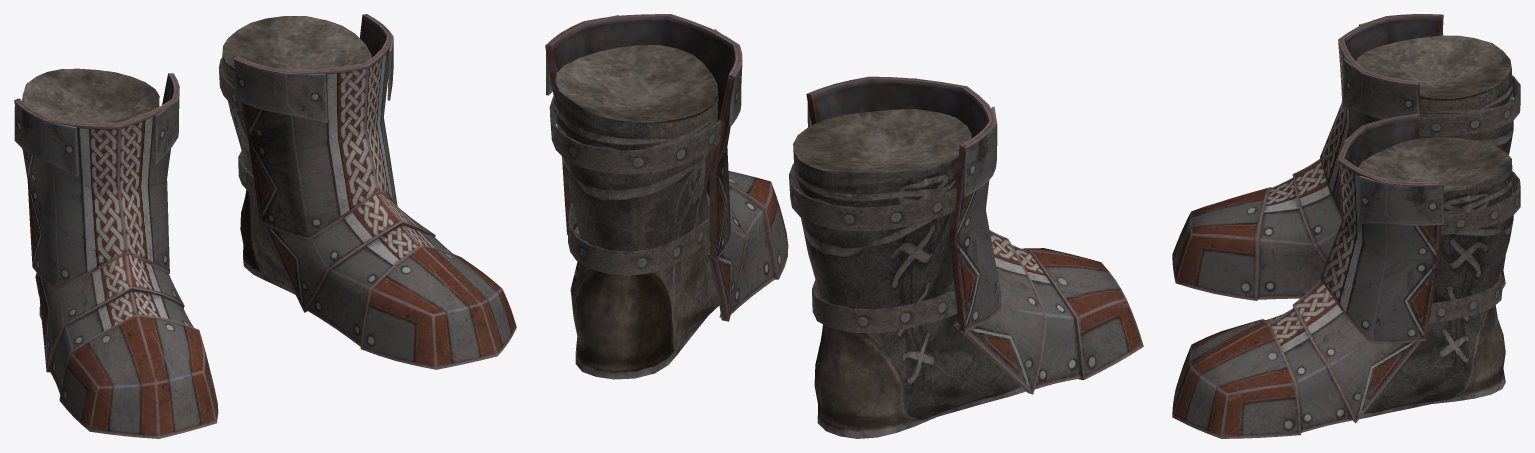
File: sk_dwarf_iron_boots_lord_c1.fbx
3 renders of one model, left to right at view 1: azimuth 30°, elevation 25°; view 2: azimuth 150°, elevation 25°; view 3: azimuth 270°, elevation 25°, orthographic. The views are drawn at different scales.
Parts seen in each view (by area): view 1: sk_dwarf_iron_boots_lord_c1.0, sk_dwarf_iron_boots_lord_c1.1; view 2: sk_dwarf_iron_boots_lord_c1.0, sk_dwarf_iron_boots_lord_c1.1; view 3: sk_dwarf_iron_boots_lord_c1.0, sk_dwarf_iron_boots_lord_c1.1.
Boxes of the visible parts, x1,y1,x2,y2 form: sk_dwarf_iron_boots_lord_c1.0: (14,14,516,438); sk_dwarf_iron_boots_lord_c1.1: (22,58,256,197); sk_dwarf_iron_boots_lord_c1.0: (545,14,1143,438); sk_dwarf_iron_boots_lord_c1.1: (549,95,957,333); sk_dwarf_iron_boots_lord_c1.0: (1172,14,1513,438); sk_dwarf_iron_boots_lord_c1.1: (1419,76,1520,323).
Size of the model in its own units: 0.5801 by 0.4158 by 0.3158.
2 materials, 2 textured.
